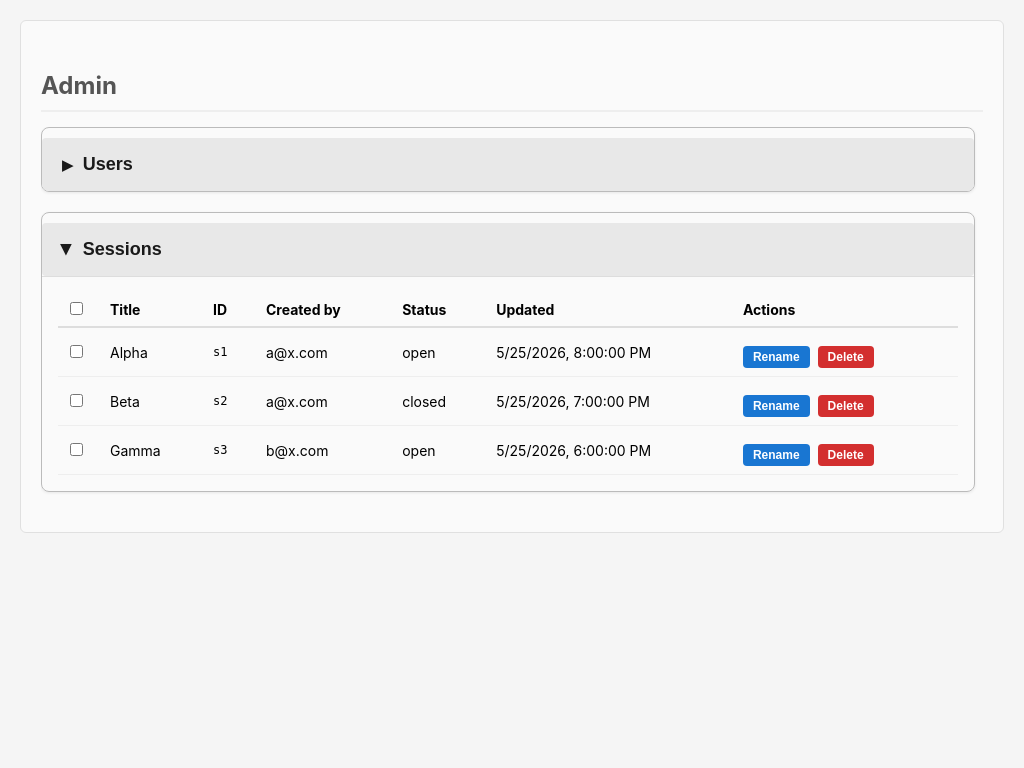
Test: AdminUsers bulk session delete (SCRUM-583) › shows the indeterminate state when only some rows are selected
This screenshot has width=1024, height=768.
Click the checkbox named "Select Alpha" at {"x": 76, "y": 351}, box [70,344,83,358]
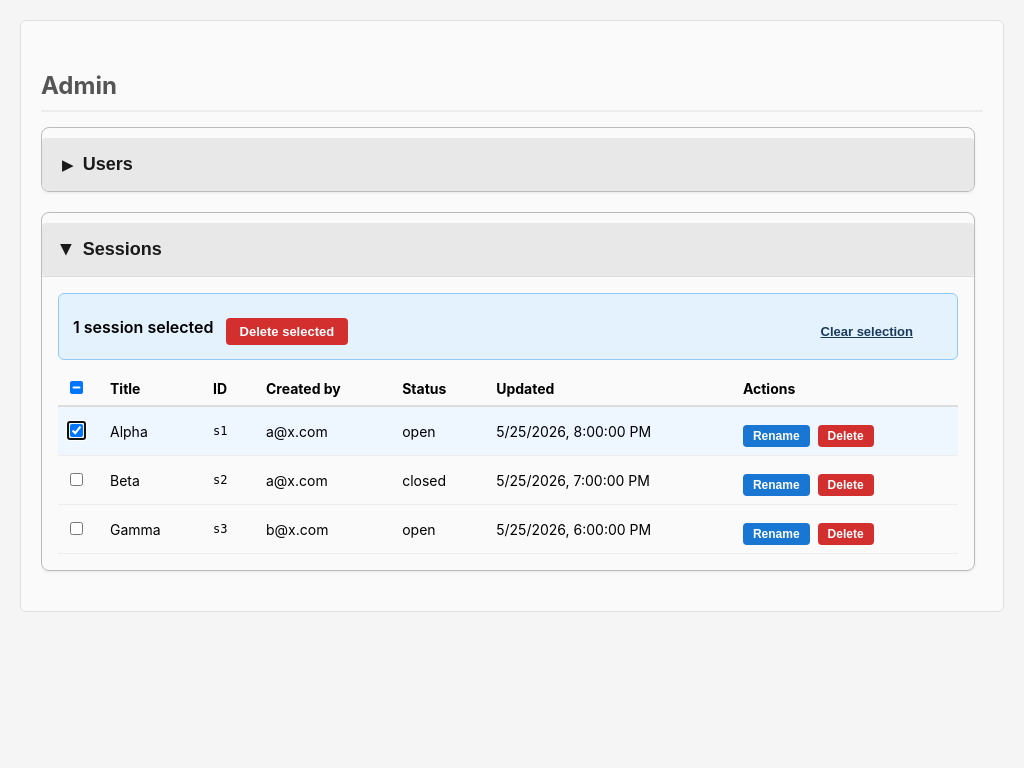
Check: the checkbox named "Select all sessions" is not checked, box [70,381,83,394]
Check: the text "1 session selected" is shown, box [73,316,214,336]
